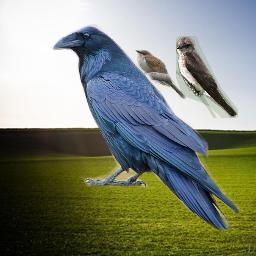Crow: (50, 24, 240, 230)
Cuckoo: (135, 50, 186, 99)
Swallow: (176, 36, 238, 118)
